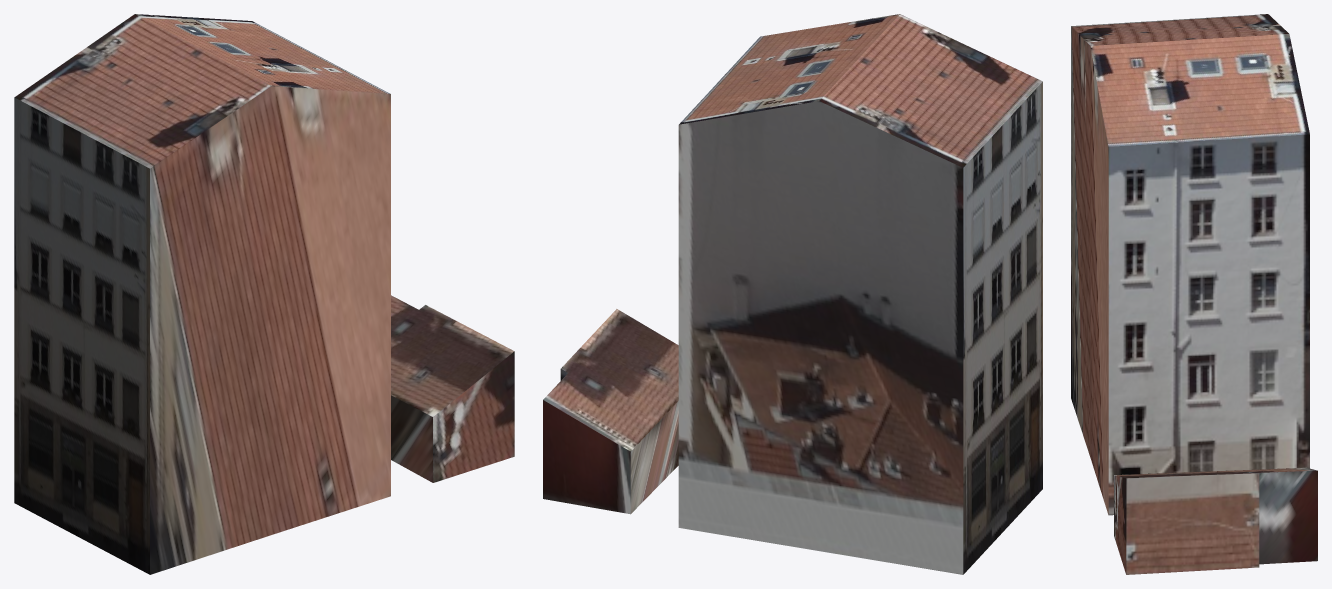
The picture shows the model from 3 angles, left to right: view 1: azimuth 30°, elevation 25°; view 2: azimuth 150°, elevation 25°; view 3: azimuth 270°, elevation 25°; orthographic projection. The views are drawn at different scales.
Parts seen in each view (by area): view 1: Z_UP; view 2: Z_UP; view 3: Z_UP.
Boxes of the visible parts, x1=… form: Z_UP: x1=14, y1=14, x2=514, y2=574; Z_UP: x1=543, y1=14, x2=1042, y2=574; Z_UP: x1=1071, y1=14, x2=1317, y2=574.
Size of the model in its own units: 22.15 by 22.48 by 12.22.
Materials: 2 (1 with a texture image).
